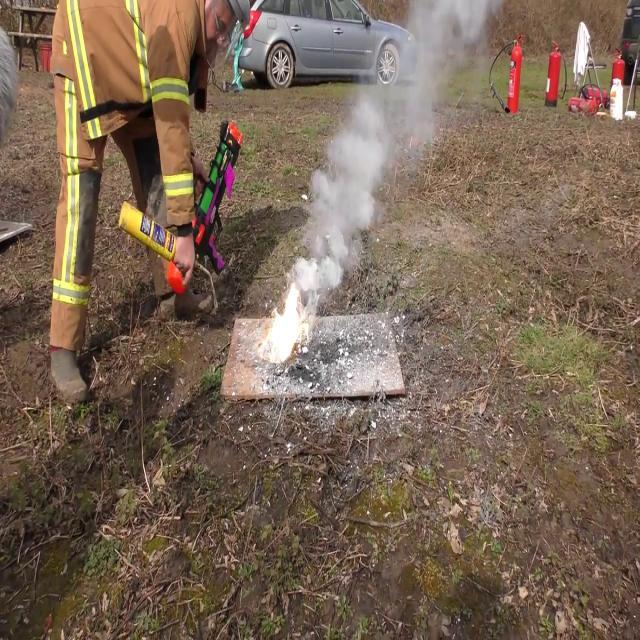Fire: (257, 276, 311, 364)
Smoke: (293, 0, 472, 302)
